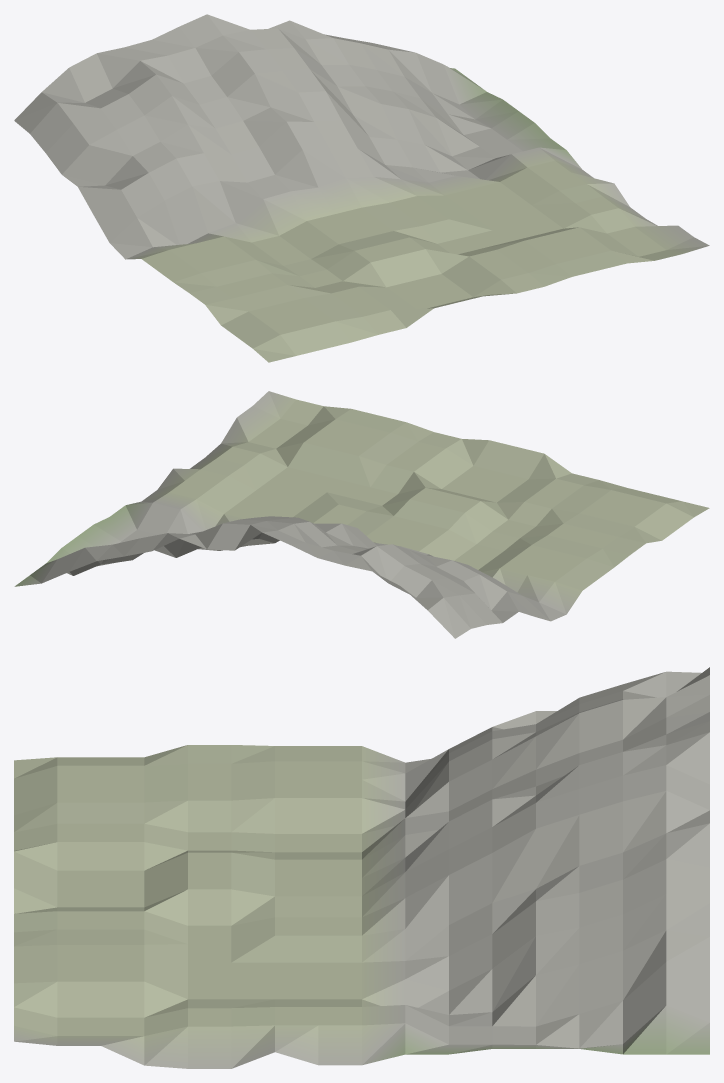
The picture shows the model from 3 angles, top to bottom: view 1: azimuth 30°, elevation 25°; view 2: azimuth 150°, elevation 25°; view 3: azimuth 270°, elevation 25°; orthographic projection. The views are drawn at different scales.
Bounding box in the file's own units: 32 × 8.76 × 32.
